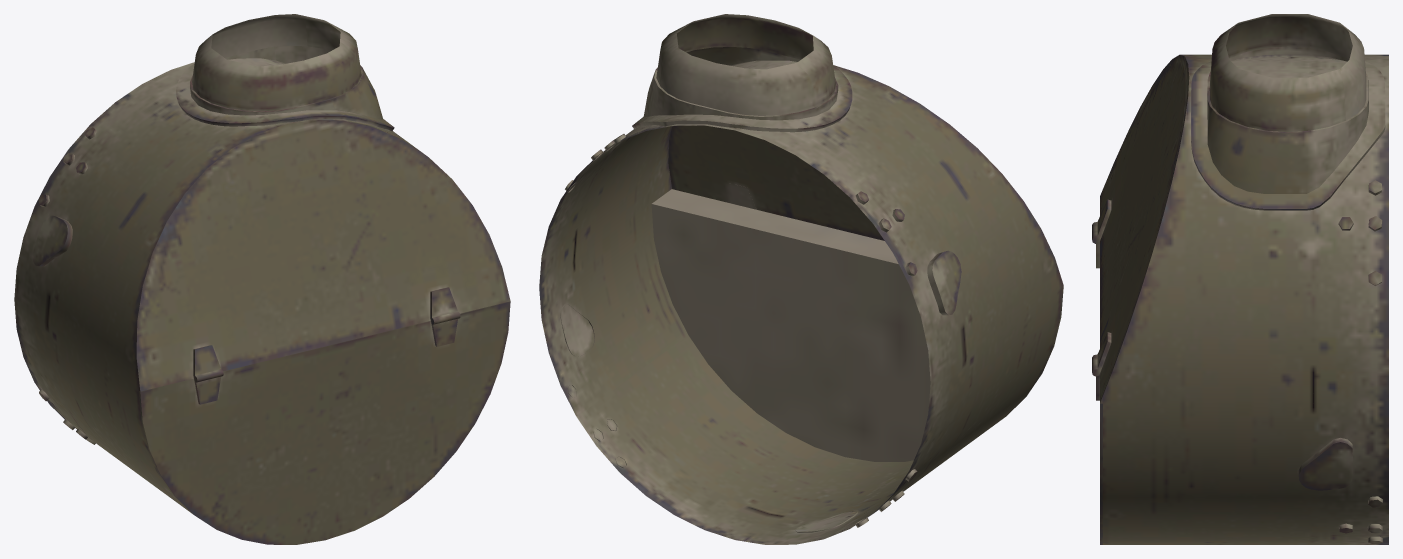
The model's file is Turret_01.glb.
3 renders of one model, left to right at view 1: azimuth 30°, elevation 25°; view 2: azimuth 150°, elevation 25°; view 3: azimuth 270°, elevation 25°, orthographic. The views are drawn at different scales.
Parts seen in each view (by area): view 1: set_0_group_0; view 2: set_0_group_0; view 3: set_0_group_0.
Part boxes in pixels (x1,y1,x2,y2): set_0_group_0: (14,14,510,544); set_0_group_0: (539,14,1063,544); set_0_group_0: (1092,14,1388,544).
Size of the model in its own units: 1.05 by 1.16 by 0.6307.
1 material, 1 textured.
